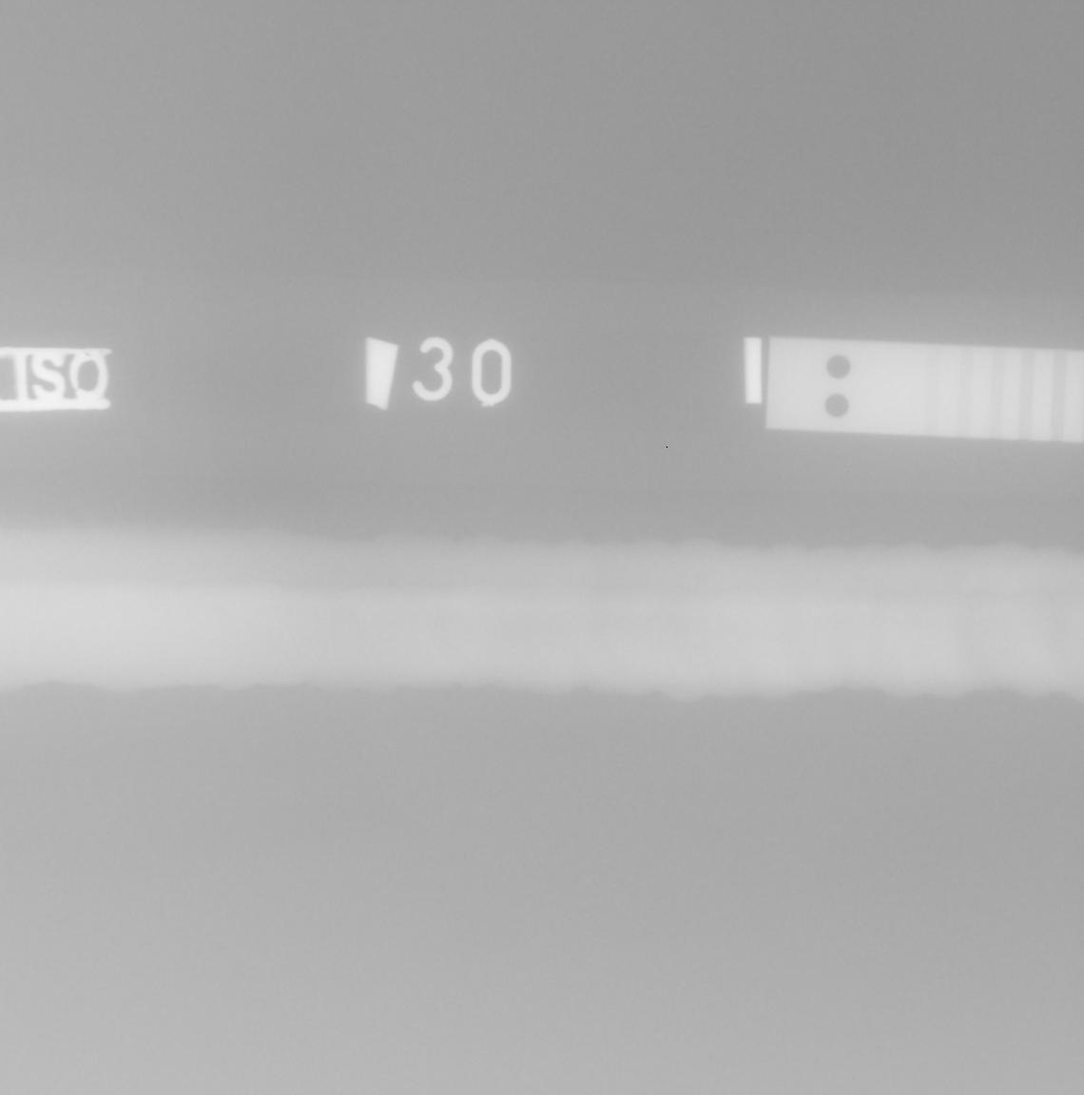Pore/Porosity: (359, 596, 363, 600)
